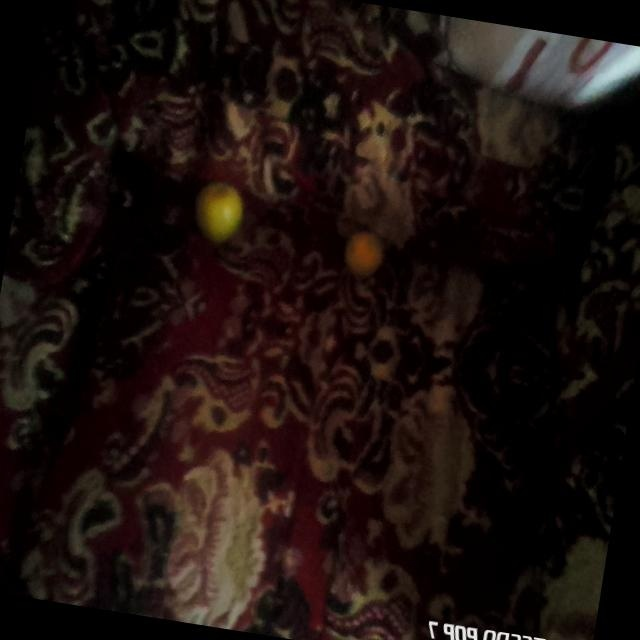agrume: (183, 172, 265, 245), (333, 225, 399, 295)
